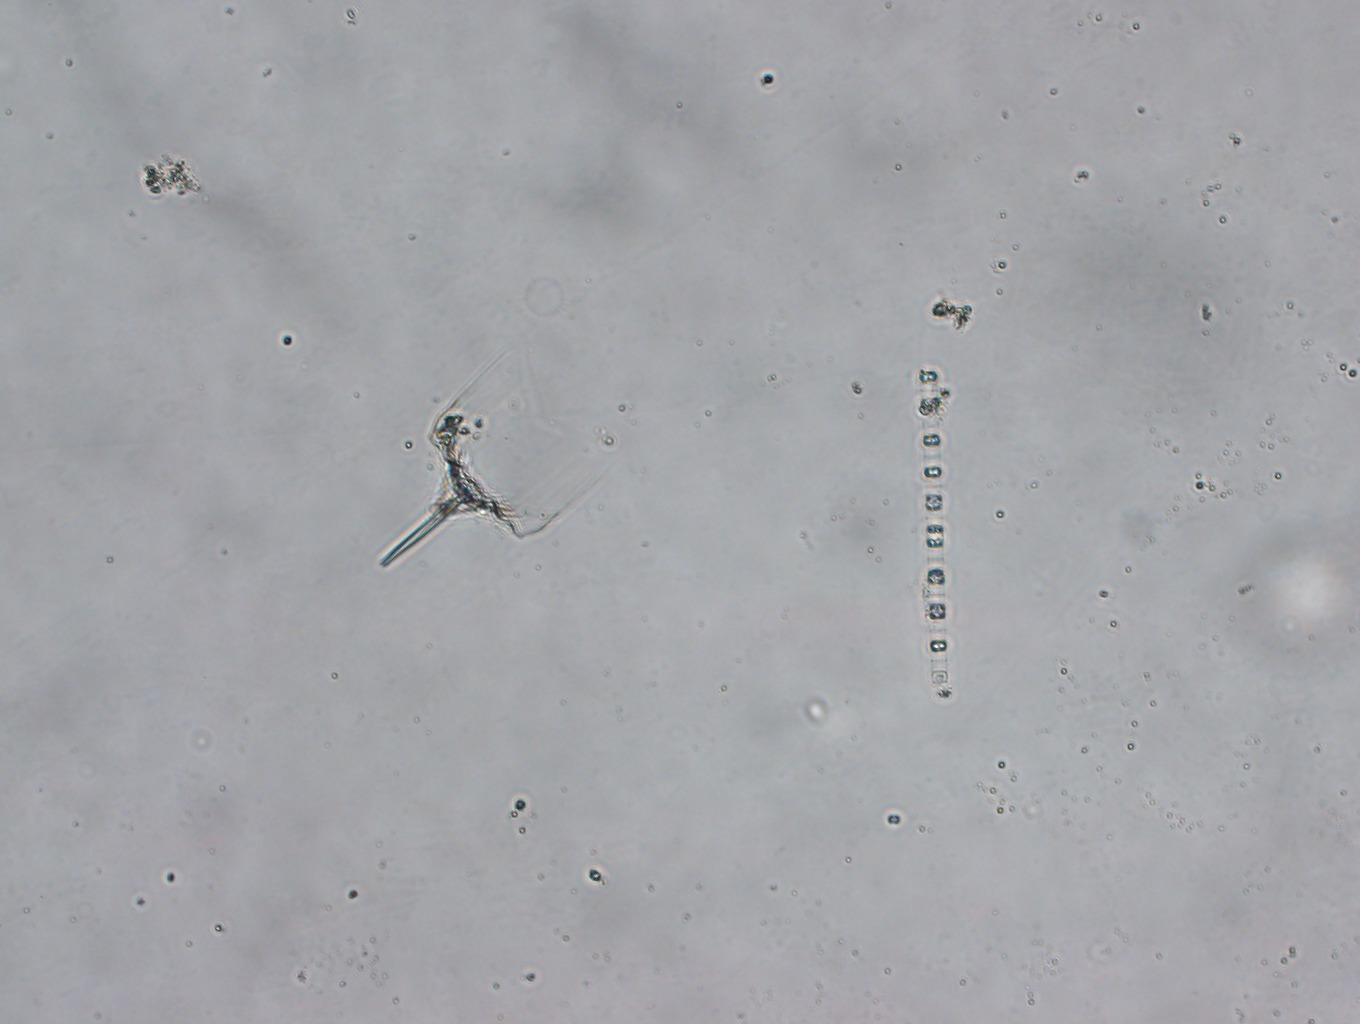ditylum: (375, 360, 606, 569)
skeletonema: (913, 367, 951, 699)
